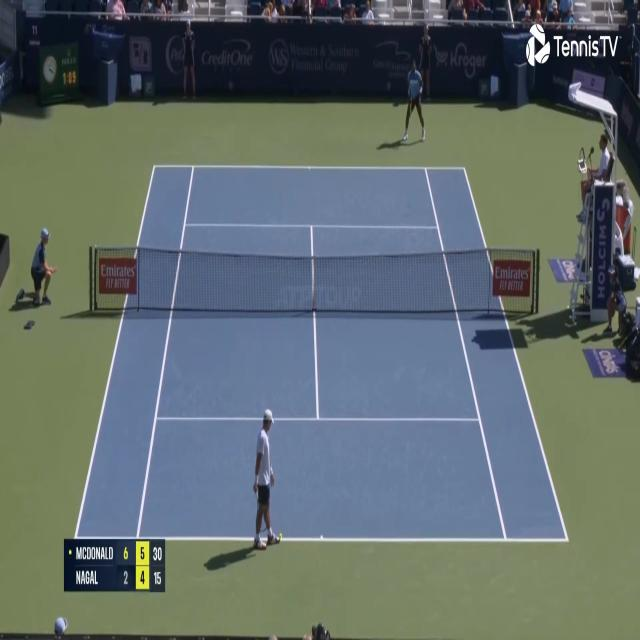tennis-player: (248, 405, 282, 556), (402, 56, 428, 144)
